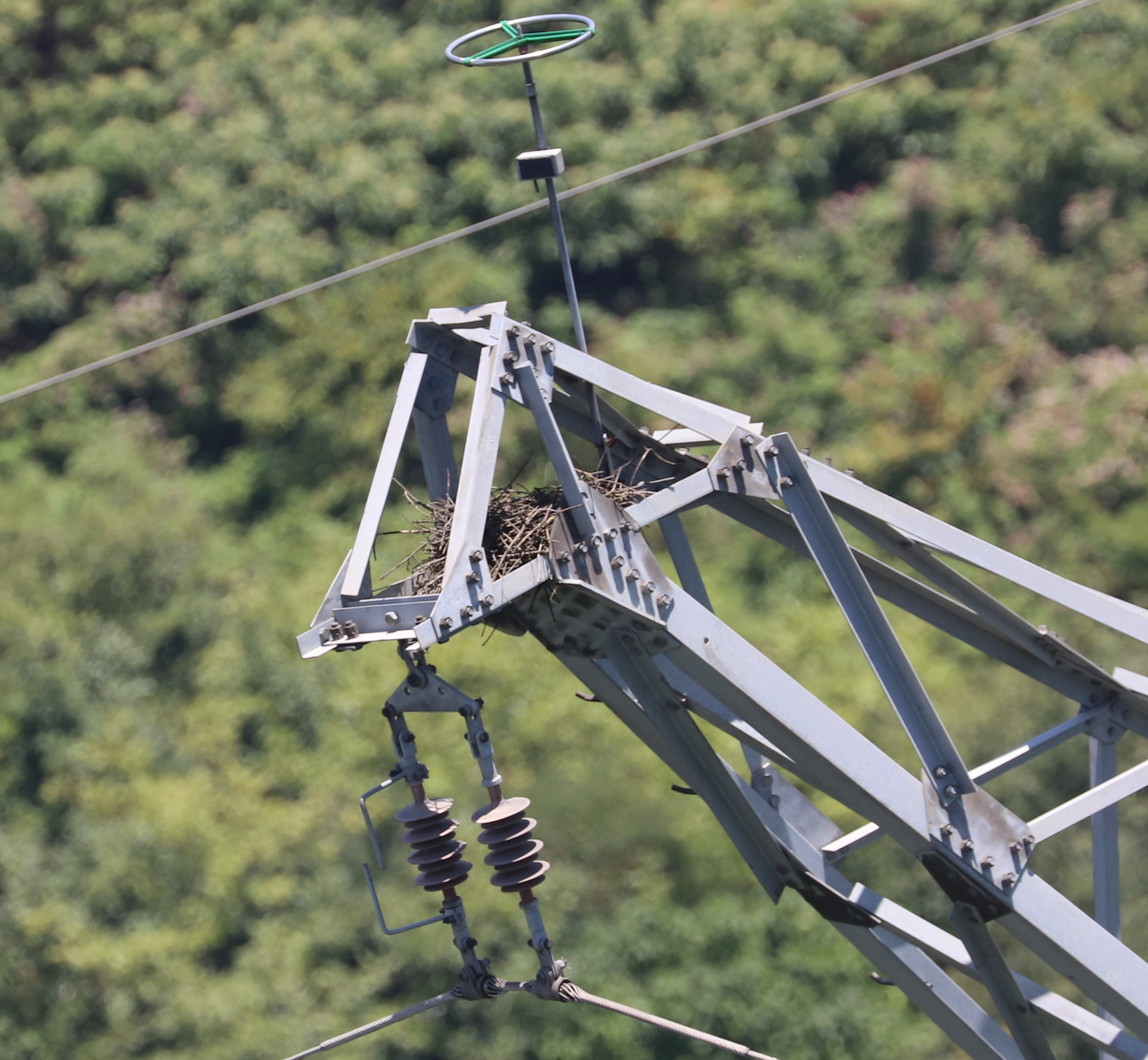nest: (389, 455, 667, 596)
